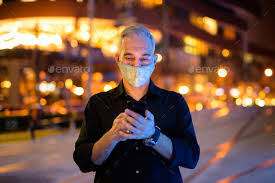mask: (118, 60, 154, 87)
